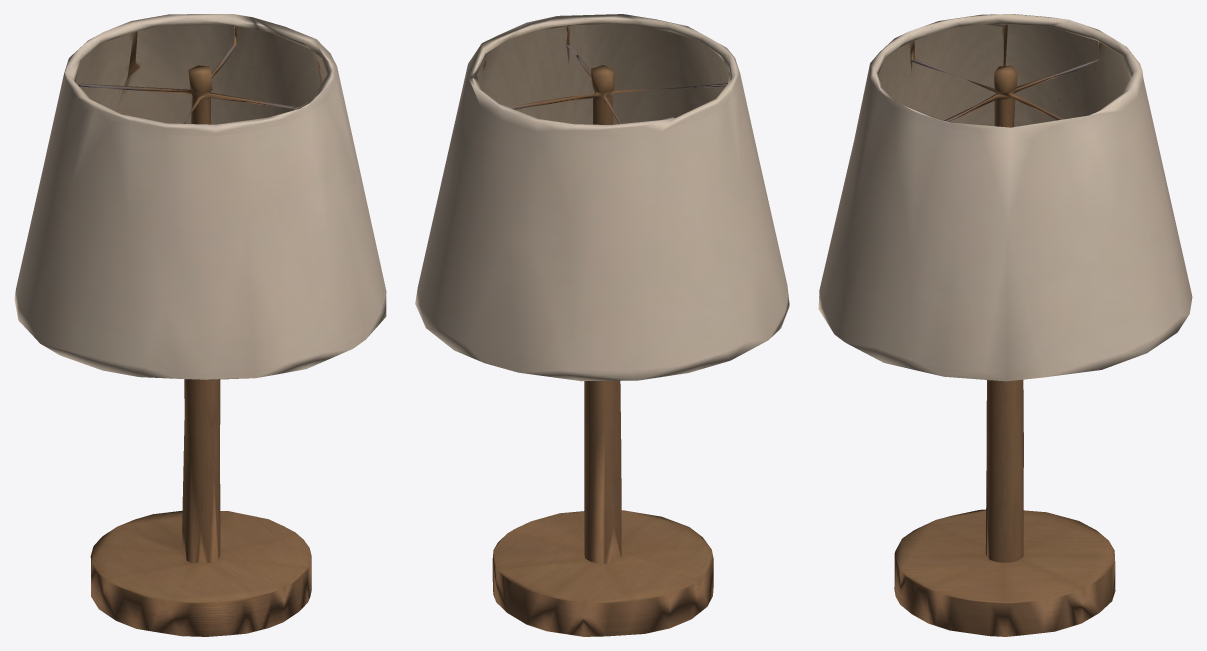
Rendered from ENV_LAMP_v001_RAW.glb.
The picture shows the model from 3 angles, left to right: view 1: azimuth 30°, elevation 25°; view 2: azimuth 150°, elevation 25°; view 3: azimuth 270°, elevation 25°; orthographic projection.
Parts seen in each view (by area): view 1: tripo_node_5f3b4627-2037-4a14-baa8-d7e6610089e8; view 2: tripo_node_5f3b4627-2037-4a14-baa8-d7e6610089e8; view 3: tripo_node_5f3b4627-2037-4a14-baa8-d7e6610089e8.
Boxes of the visible parts, x1,y1,x2,y2 form: tripo_node_5f3b4627-2037-4a14-baa8-d7e6610089e8: (14, 14, 386, 636); tripo_node_5f3b4627-2037-4a14-baa8-d7e6610089e8: (415, 14, 789, 636); tripo_node_5f3b4627-2037-4a14-baa8-d7e6610089e8: (818, 14, 1192, 636).
Bounding box in the file's own units: 0.6411 × 0.9795 × 0.6378.
1 material, 1 textured.
